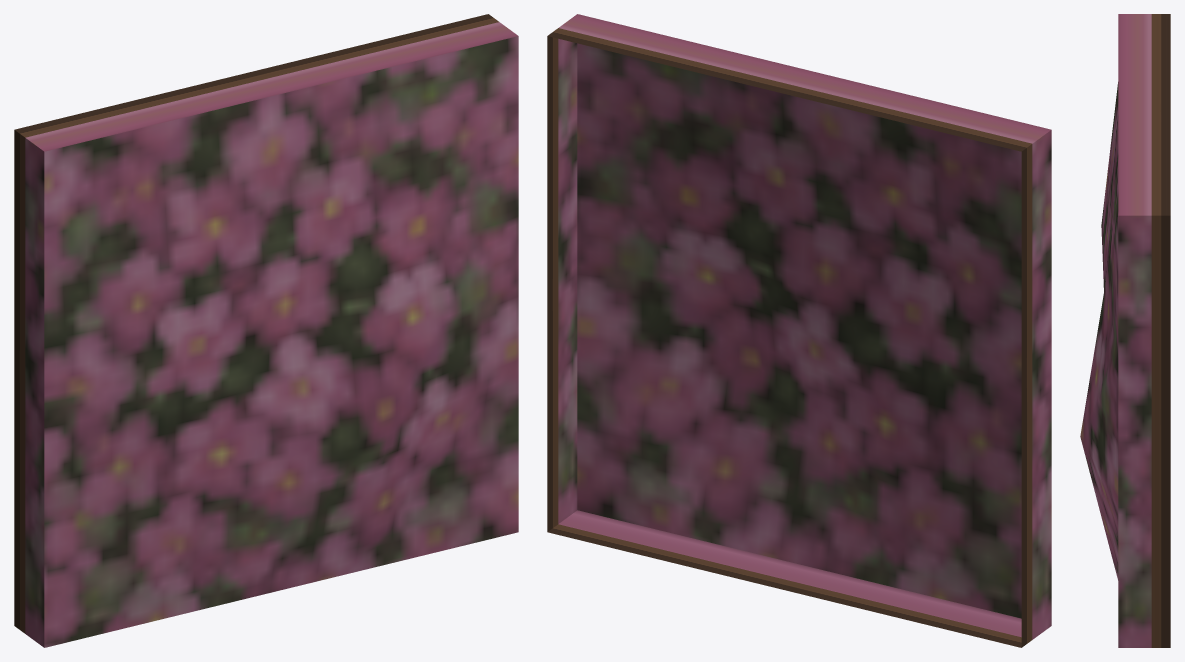
Rendered from keep-bed-palepink.obj.
3 renders of one model, left to right at view 1: azimuth 30°, elevation 25°; view 2: azimuth 150°, elevation 25°; view 3: azimuth 270°, elevation 25°, orthographic. The views are drawn at different scales.
Parts seen in each view (by area): view 1: bed-palepink; view 2: bed-palepink; view 3: bed-palepink.
Boxes of the visible parts, left/top/right/bottom form: bed-palepink: left=14, top=14, right=518, bottom=647; bed-palepink: left=547, top=14, right=1051, bottom=647; bed-palepink: left=1080, top=14, right=1170, bottom=647.
Size of the model in its own units: 1 by 1 by 0.1895.
1 material, 1 textured.
